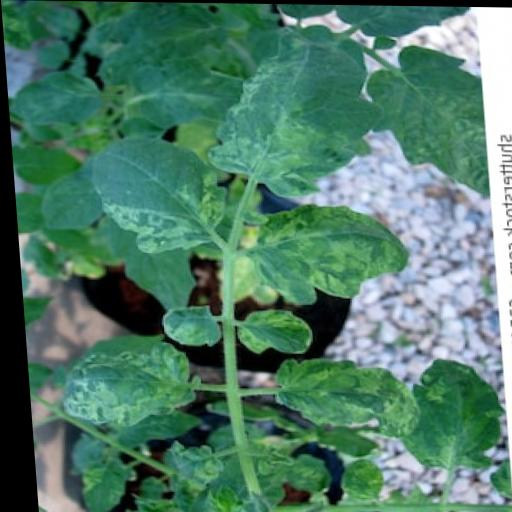Mosaic Virus: (202, 20, 384, 196), (75, 132, 232, 255), (238, 199, 407, 307), (41, 326, 209, 427), (385, 357, 495, 470), (268, 357, 411, 441), (230, 305, 318, 354), (154, 300, 221, 344)
